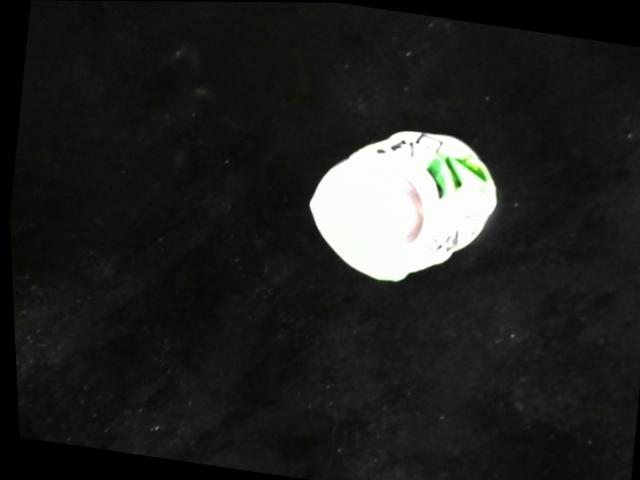can: (295, 124, 508, 296)
